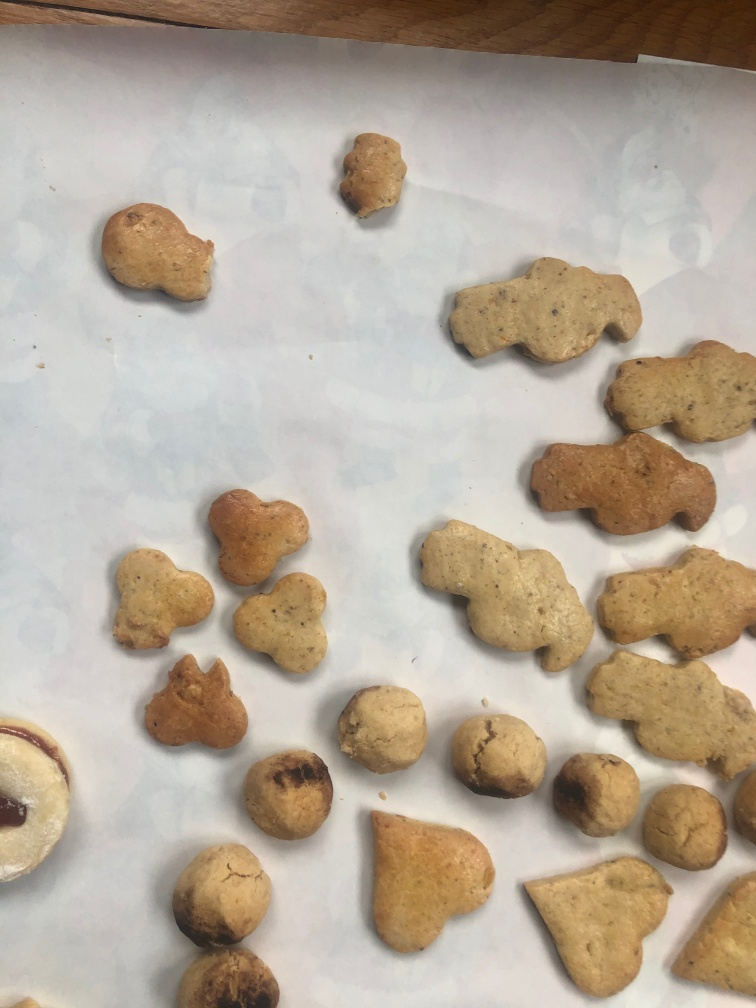christmas shortbread with jam: (1, 709, 75, 898)
flake: (103, 540, 216, 661), (228, 568, 338, 688), (138, 650, 252, 764), (204, 485, 314, 596)
heart: (517, 849, 680, 1007), (364, 803, 498, 961), (662, 869, 756, 1008)
santa claus: (405, 512, 594, 683), (435, 252, 647, 373), (580, 646, 756, 779), (518, 428, 716, 544), (593, 543, 756, 664), (601, 338, 756, 454)
snowball: (165, 839, 276, 944), (241, 747, 338, 846), (334, 681, 429, 779), (446, 709, 546, 802), (642, 778, 728, 880), (168, 938, 286, 1008), (552, 755, 642, 841)
